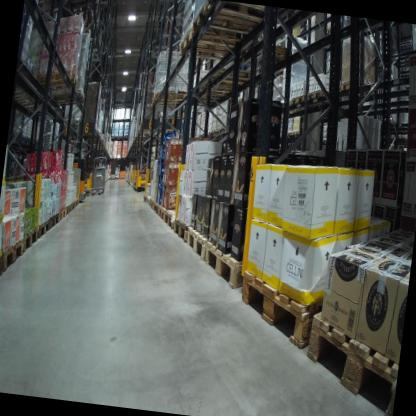pallet: (230, 245, 370, 359), (302, 303, 402, 412), (187, 0, 276, 53), (173, 25, 270, 68), (197, 233, 247, 295), (235, 37, 295, 76), (38, 65, 80, 101), (191, 75, 243, 102), (338, 74, 377, 108), (146, 86, 192, 114), (180, 220, 210, 261), (51, 83, 89, 114), (0, 232, 24, 277), (305, 84, 336, 108), (19, 224, 38, 259), (171, 214, 190, 247), (32, 216, 52, 245), (160, 204, 179, 231), (69, 0, 101, 14), (283, 91, 304, 108), (32, 0, 67, 9), (47, 211, 59, 234), (155, 198, 166, 222), (55, 203, 66, 226), (0, 250, 5, 293), (150, 197, 159, 216), (64, 201, 73, 218), (147, 194, 154, 211), (69, 196, 76, 212), (73, 197, 80, 210), (144, 194, 150, 208), (141, 191, 147, 204), (112, 135, 123, 141), (210, 129, 219, 136)
pallet_truck: (62, 146, 91, 203)
